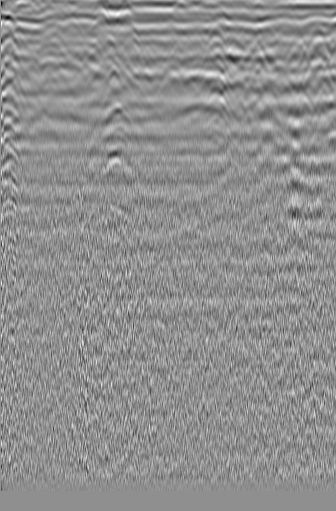가스: (95, 146, 135, 179)
상수: (1, 29, 24, 59)
오수: (282, 32, 311, 62)
우수: (157, 21, 185, 51)
